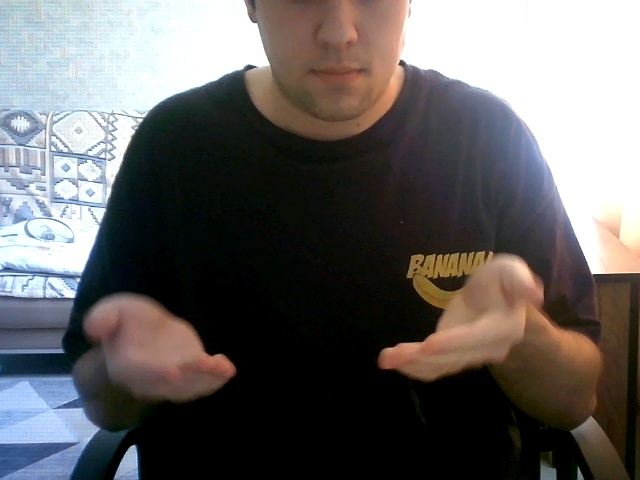hello: (60, 203, 566, 415)
